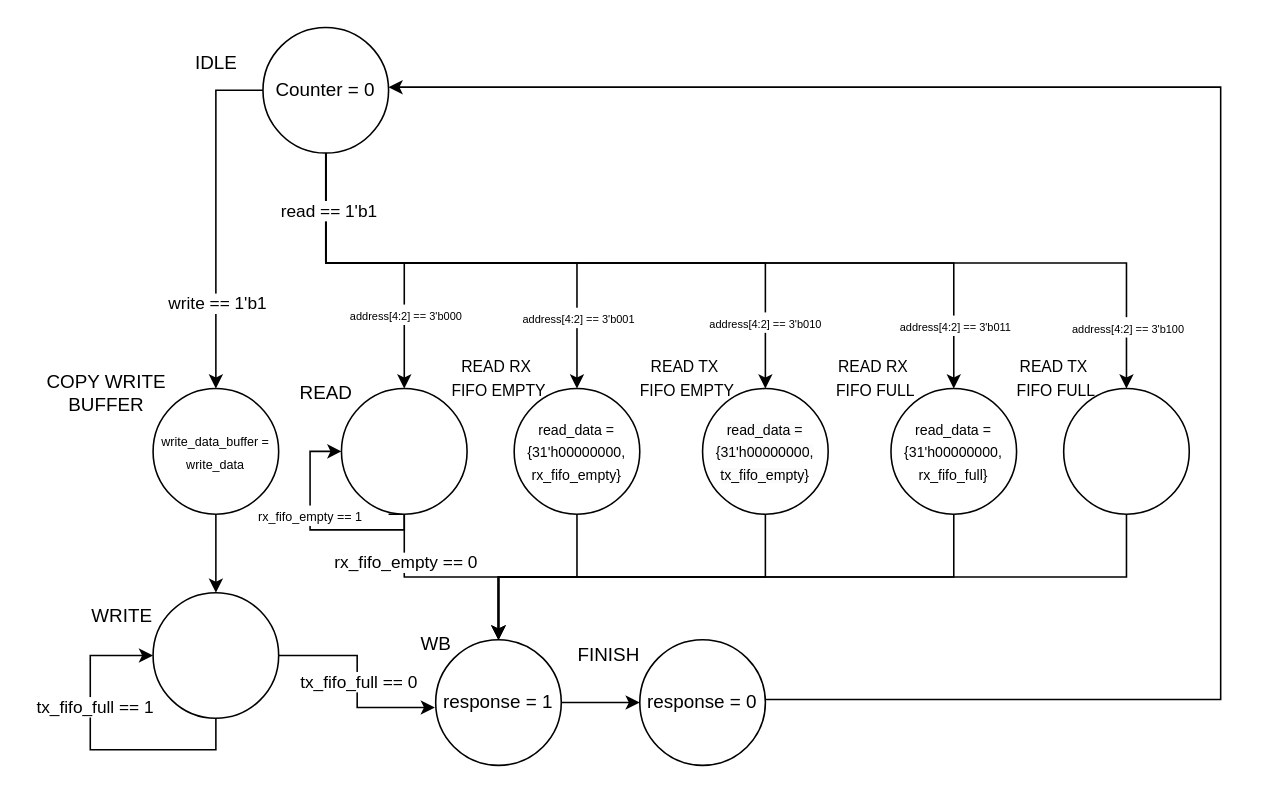
Image size: 1261x793. Some labels were removed from this diagram. Here are the shapes that lost their labels. From the top down, the centre of each, then its label:
At (x=403, y=450): "rx_fifo_read = 1".
At (x=1125, y=450): "read_data = {31'h00000000, tx_fifo_full}".
At (x=215, y=654): "tx_fifo_write = 1".
